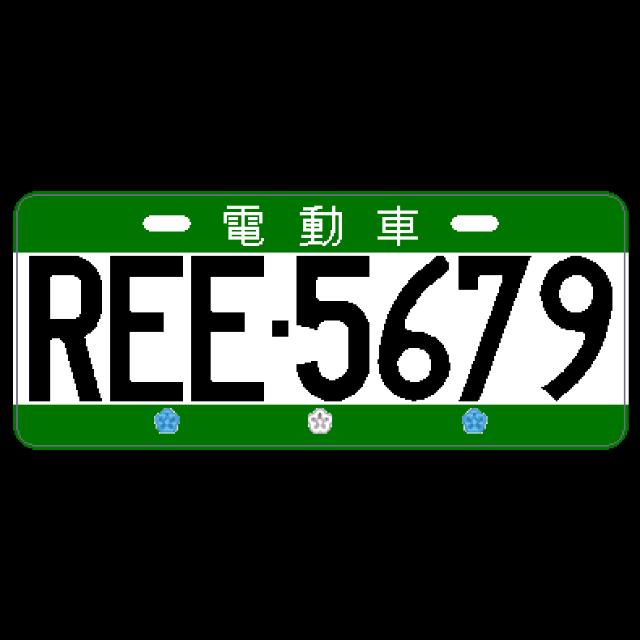plate: (8, 186, 632, 452)
